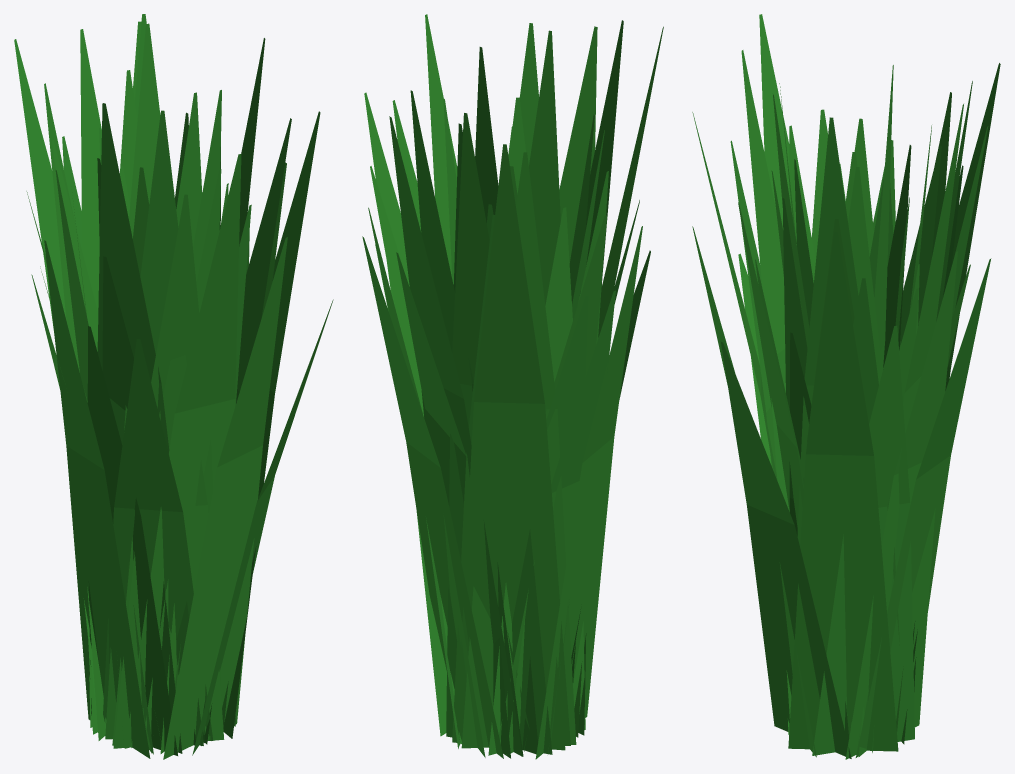
3 renders of one model, left to right at view 1: azimuth 30°, elevation 25°; view 2: azimuth 150°, elevation 25°; view 3: azimuth 270°, elevation 25°, orthographic. The views are drawn at different scales.
Visible parts, largest first — view 1: IL3DN_Plant_Grass_02_LOD0; view 2: IL3DN_Plant_Grass_02_LOD0; view 3: IL3DN_Plant_Grass_02_LOD0.
Part boxes in pixels (x1,y1,x2,y2): IL3DN_Plant_Grass_02_LOD0: (14, 14, 333, 759); IL3DN_Plant_Grass_02_LOD0: (362, 14, 663, 759); IL3DN_Plant_Grass_02_LOD0: (692, 14, 1000, 759).
Size of what is drawn, in the model's own units: 72.76 by 174 by 72.65.
